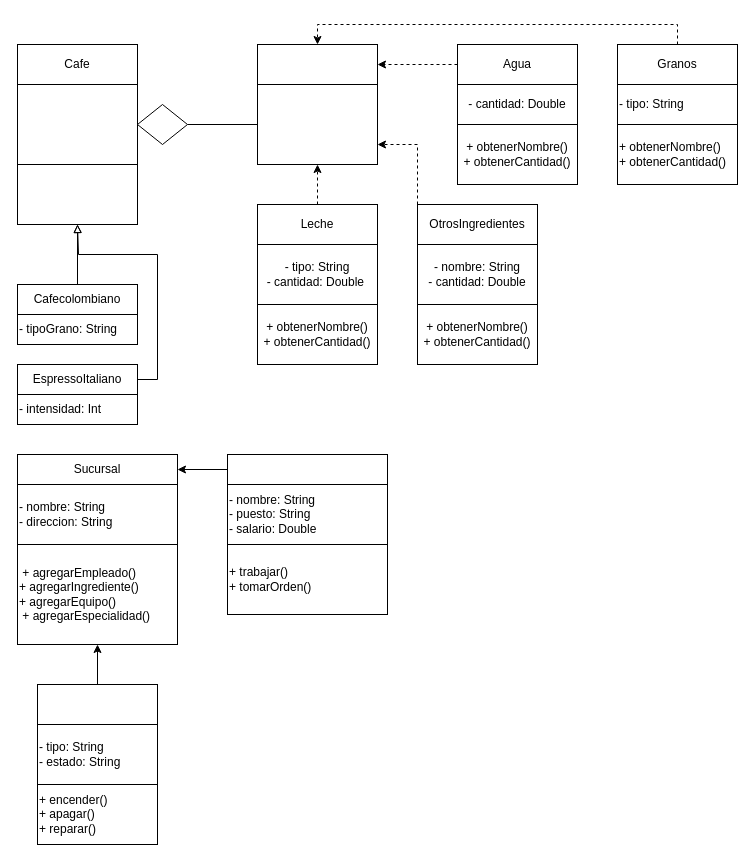
Some shapes in this 755 by 862 pixel diagram are drawn without their labels. Here are the shapes that lost their labels. From the top down, the centre of each, then its label:
point (317, 64): Ingredientes
point (77, 124): - nombre: string - tamaño: string - precio: string
point (317, 124): <<interface>> + obtenerNombre() + obetenerCantidad()
point (77, 194): + preparar() + servir()
point (307, 469): Empleado
point (97, 704): Equipo
